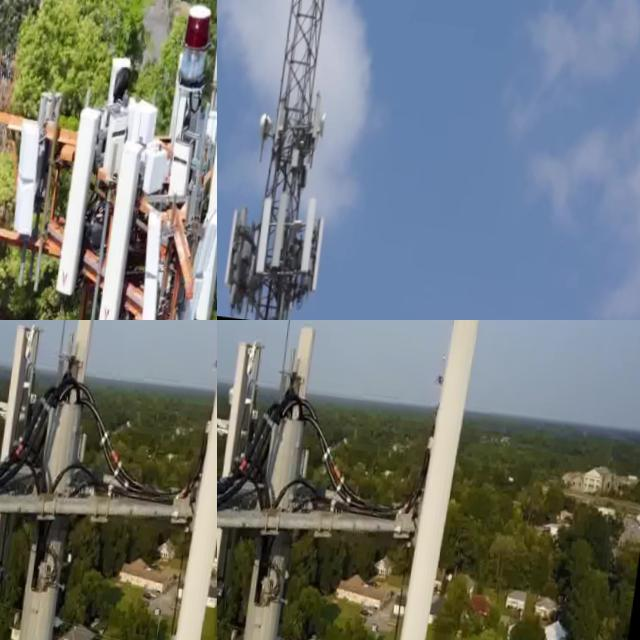GSM Antenna: (401, 320, 491, 640), (217, 331, 268, 598), (0, 320, 40, 593), (57, 98, 109, 301), (96, 135, 150, 320), (180, 399, 217, 640), (190, 123, 217, 320), (10, 115, 50, 237), (134, 210, 176, 320), (61, 320, 101, 429), (285, 320, 322, 411), (258, 190, 283, 279), (274, 185, 298, 274), (303, 190, 325, 274), (313, 211, 334, 293), (229, 206, 247, 286), (313, 85, 331, 138)
Microwave Antenna: (259, 102, 282, 149), (321, 106, 334, 138)
